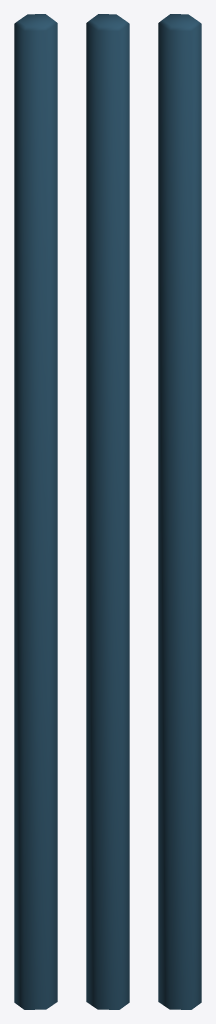
File: edap-fence_LOD02.gltf
The picture shows the model from 3 angles, left to right: view 1: azimuth 30°, elevation 25°; view 2: azimuth 150°, elevation 25°; view 3: azimuth 330°, elevation 25°; orthographic projection.
Parts seen in each view (by area): view 1: fence.002; view 2: fence.002; view 3: fence.002.
Part boxes in pixels (box(x1,y1,x2,y2)): fence.002: box(14, 14, 57, 1009); fence.002: box(86, 14, 129, 1009); fence.002: box(158, 14, 201, 1009).
Bounding box in the file's own units: 0.0603 × 1.7 × 0.0638.
